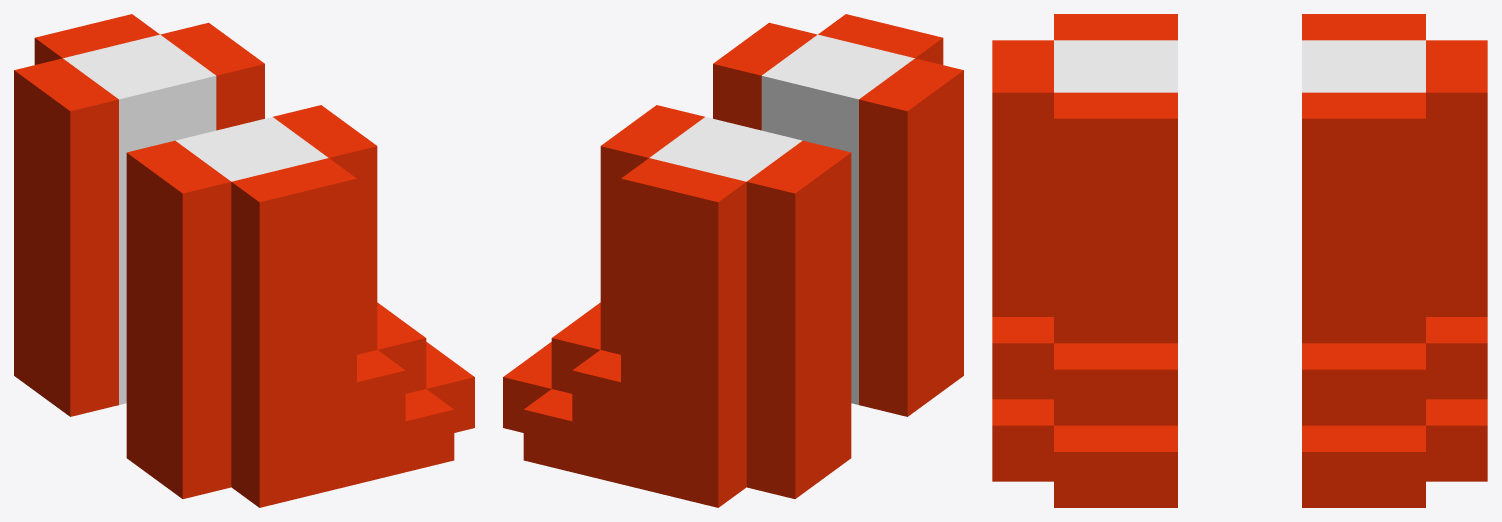
Rendered from feet_armor1.gltf.
3 views of the same model, side by side, from view 1: azimuth 30°, elevation 25°; view 2: azimuth 150°, elevation 25°; view 3: azimuth 270°, elevation 25° (orthographic). The views are drawn at different scales.
Visible parts, largest first — view 1: Layer.1; view 2: Layer.1; view 3: Layer.1.
Boxes of the visible parts, left/top/right/bottom form: Layer.1: left=14, top=14, right=474, bottom=507; Layer.1: left=503, top=14, right=963, bottom=507; Layer.1: left=992, top=14, right=1487, bottom=507.
Bounding box in the file's own units: 6 × 6 × 8.
Materials: 1 (1 with a texture image).
